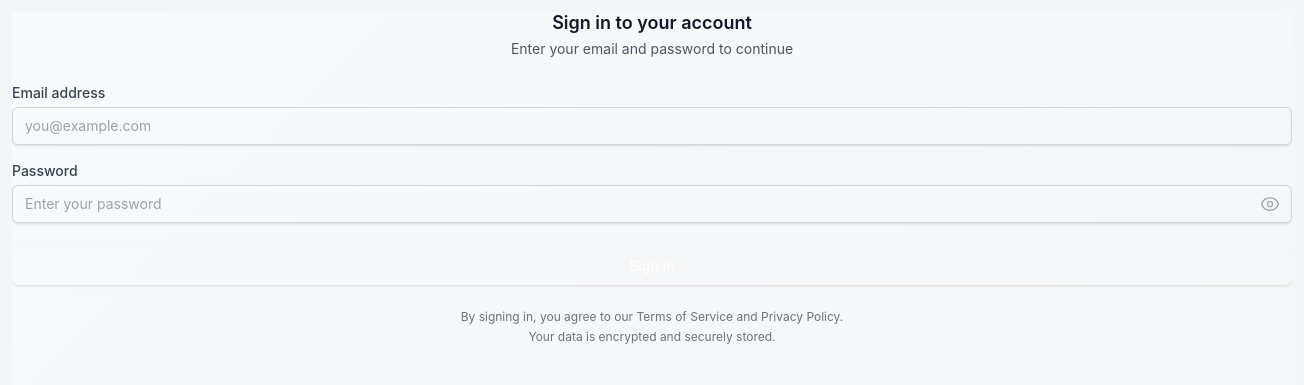
Test: PasswordLoginForm › Form Validation › should show error for invalid email format
The image size is (1304, 385).
Step 1. Type "invalid-email" into the field with test id "email-input" → (652, 126), box [12, 106, 1292, 144]
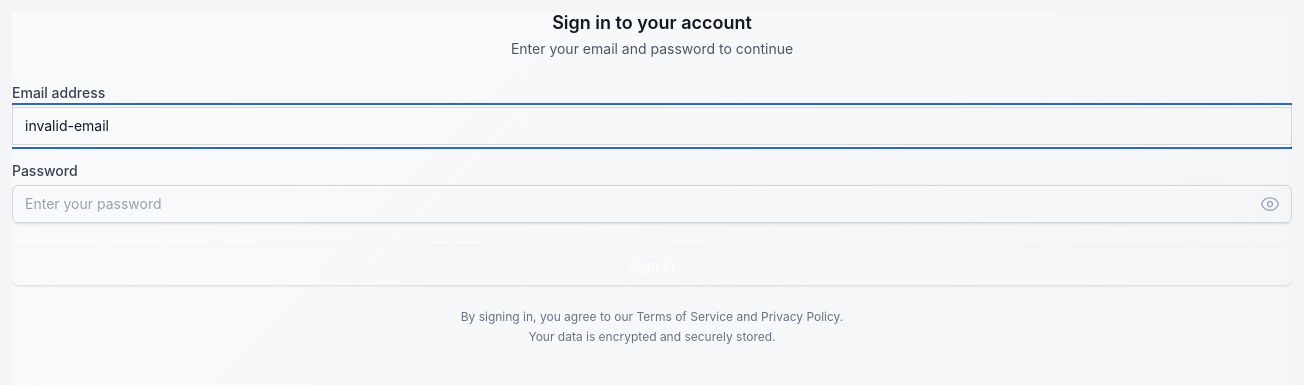
Step 2. Press Tab
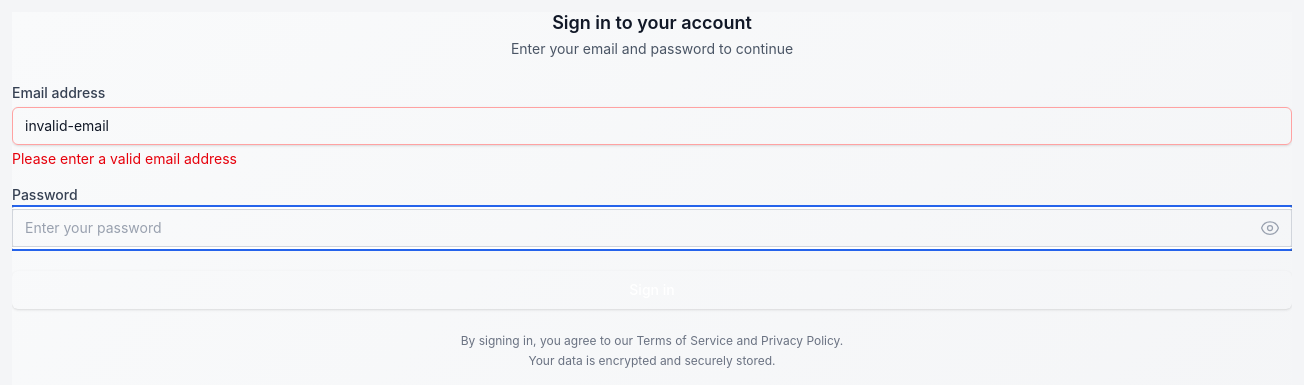
expect the text "Please enter a valid email address" is shown: met, box [12, 150, 237, 166]
